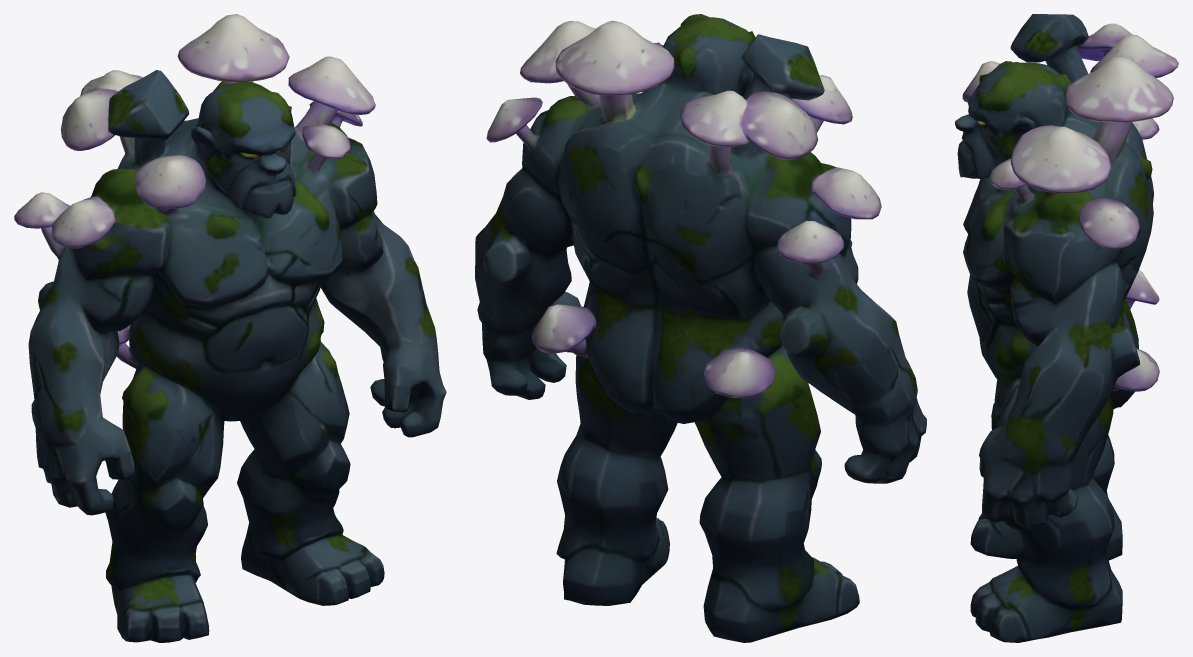
Rendered from fungal-ogre.glb.
3 views of the same model, side by side, from view 1: azimuth 30°, elevation 25°; view 2: azimuth 150°, elevation 25°; view 3: azimuth 270°, elevation 25° (orthographic). The views are drawn at different scales.
Visible parts, largest first — view 1: world; view 2: world; view 3: world.
Part boxes in pixels (left/top/right/bottom): world: left=14, top=14, right=446, bottom=642; world: left=475, top=14, right=926, bottom=642; world: left=955, top=14, right=1178, bottom=642.
Size of the model in its own units: 0.7511 by 1 by 0.3757.
1 material, 1 textured.
